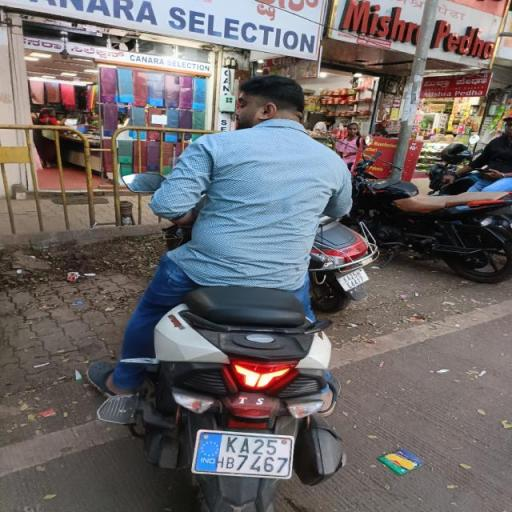bike: (89, 72, 389, 512)
numberplate: (193, 426, 300, 488)
withouthelmet: (238, 76, 308, 126)
